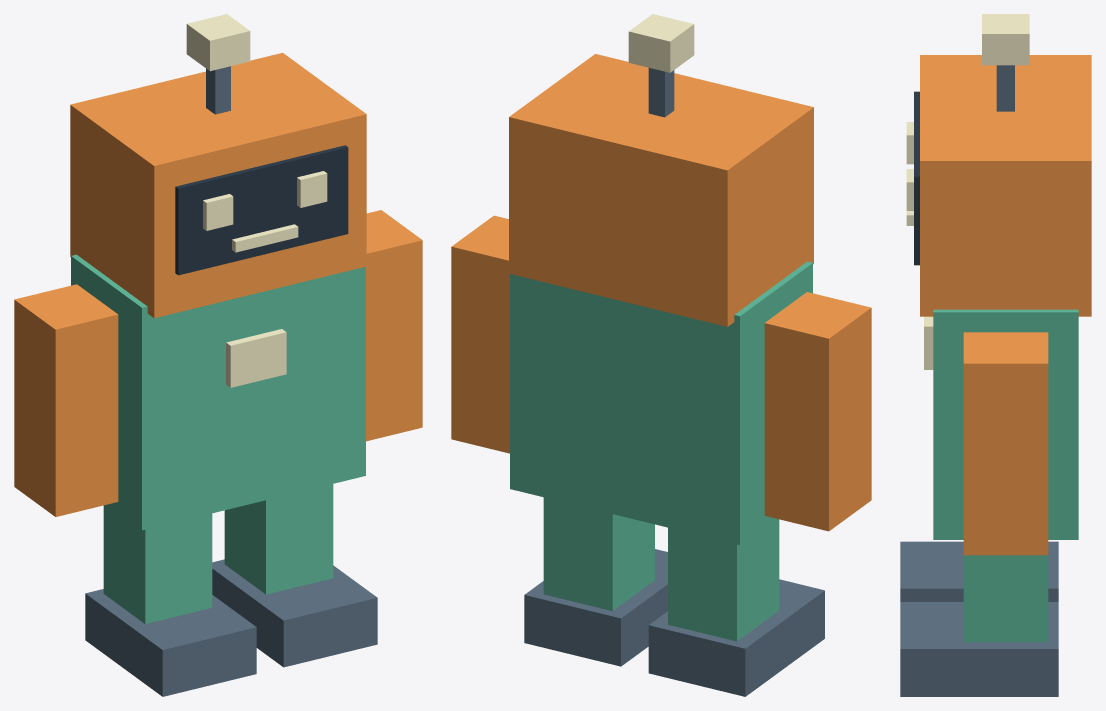
The model's file is sample-robot.glb.
3 renders of one model, left to right at view 1: azimuth 30°, elevation 25°; view 2: azimuth 150°, elevation 25°; view 3: azimuth 270°, elevation 25°, orthographic. The views are drawn at different scales.
Parts seen in each view (by area): view 1: Body, Head, Arm left, Face, Arm right, Foot left, Foot right, Leg left, Leg right, Antenna tip, Chest badge, Antenna (+3 smaller); view 2: Head, Body, Arm left, Arm right, Leg left, Foot left, Leg right, Foot right, Antenna tip, Antenna; view 3: Head, Arm right, Body, Foot right, Leg right, Foot left, Antenna tip, Face, Antenna, Chest badge, Eye left, Eye right.
Boxes of the visible parts, bbox=[...] form: Body: bbox=[71, 254, 365, 530]; Head: bbox=[70, 52, 366, 318]; Arm left: bbox=[14, 284, 118, 516]; Face: bbox=[175, 145, 348, 275]; Arm right: bbox=[366, 210, 422, 441]; Foot left: bbox=[85, 589, 256, 696]; Foot right: bbox=[212, 559, 377, 667]; Leg left: bbox=[103, 504, 212, 623]; Leg right: bbox=[224, 484, 333, 594]; Antenna tip: bbox=[186, 14, 250, 71]; Chest badge: bbox=[226, 329, 286, 387]; Antenna: bbox=[206, 66, 230, 114]; Head: bbox=[509, 54, 813, 326]; Body: bbox=[510, 261, 812, 544]; Arm left: bbox=[764, 292, 871, 531]; Arm right: bbox=[451, 215, 509, 453]; Leg left: bbox=[668, 518, 779, 641]; Foot left: bbox=[648, 579, 824, 696]; Leg right: bbox=[543, 497, 654, 610]; Foot right: bbox=[524, 549, 667, 666]; Antenna tip: bbox=[628, 14, 694, 72]; Antenna: bbox=[648, 68, 674, 117]; Head: bbox=[920, 55, 1091, 316]; Arm right: bbox=[963, 332, 1048, 555]; Body: bbox=[933, 309, 1078, 539]; Foot right: bbox=[900, 602, 1058, 696]; Leg right: bbox=[963, 555, 1048, 642]; Foot left: bbox=[900, 541, 1058, 601]; Antenna tip: bbox=[982, 14, 1029, 65]; Face: bbox=[914, 91, 919, 265]; Antenna: bbox=[996, 65, 1014, 111]; Chest badge: bbox=[924, 316, 933, 369]; Eye left: bbox=[906, 122, 913, 164]; Eye right: bbox=[906, 169, 913, 210].
Size of the model in its own units: 1.64 by 2.58 by 0.725.
